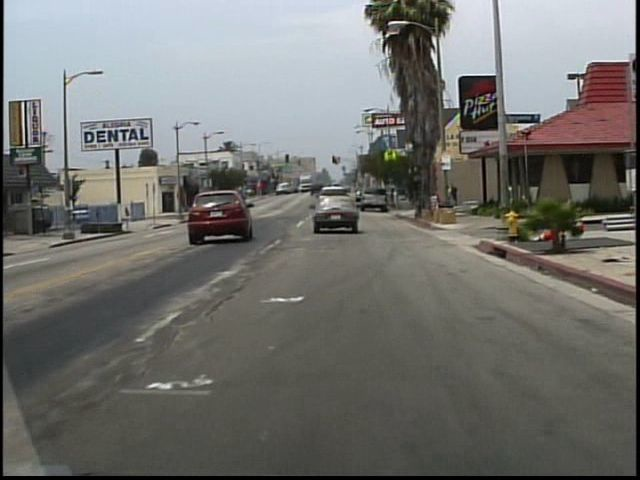person: (451, 183, 460, 209), (445, 185, 453, 209)
